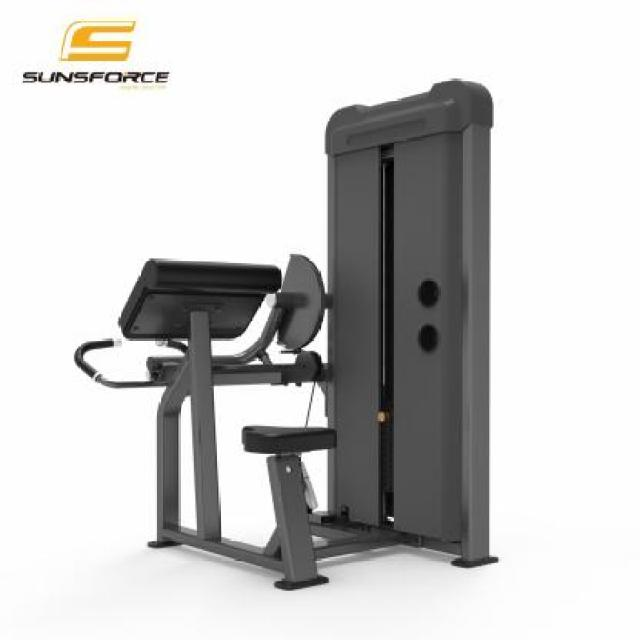arm curl machine: (77, 85, 498, 589)
